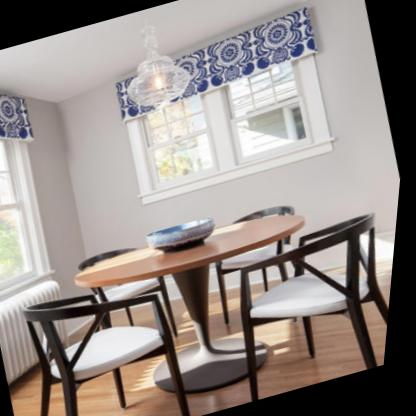Dining Table: (20, 178, 404, 416)
